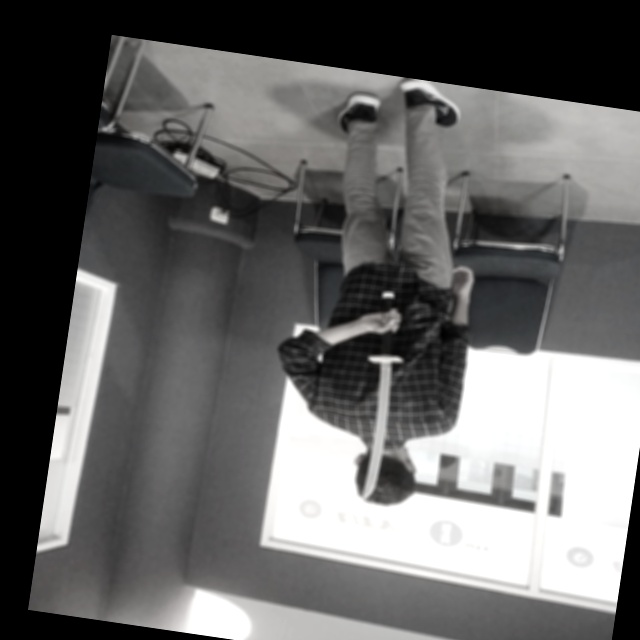Sharp-Object: (335, 280, 429, 506)
